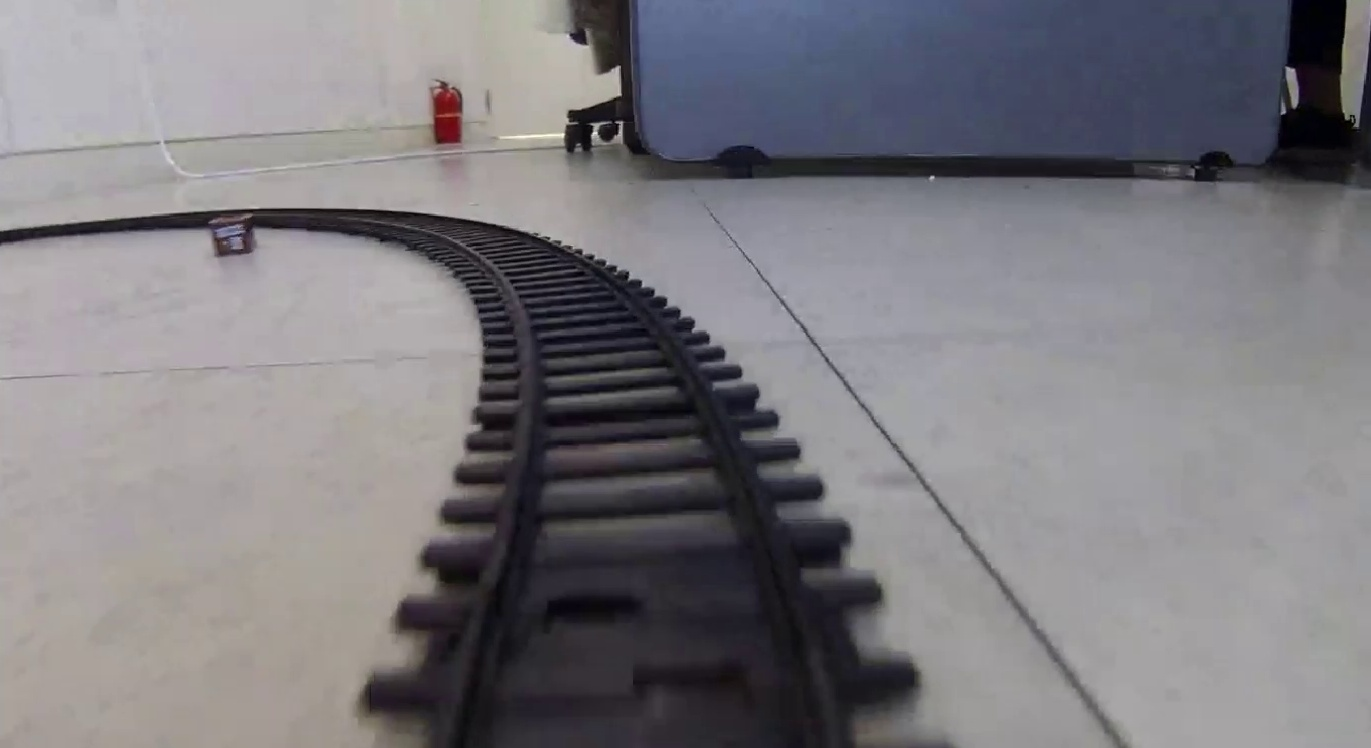box: (208, 215, 255, 255)
